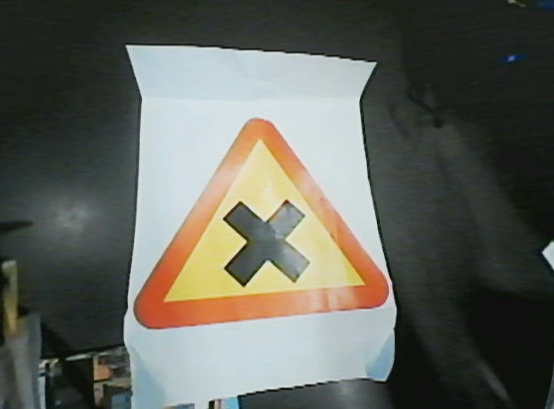junction: (141, 115, 394, 337)
